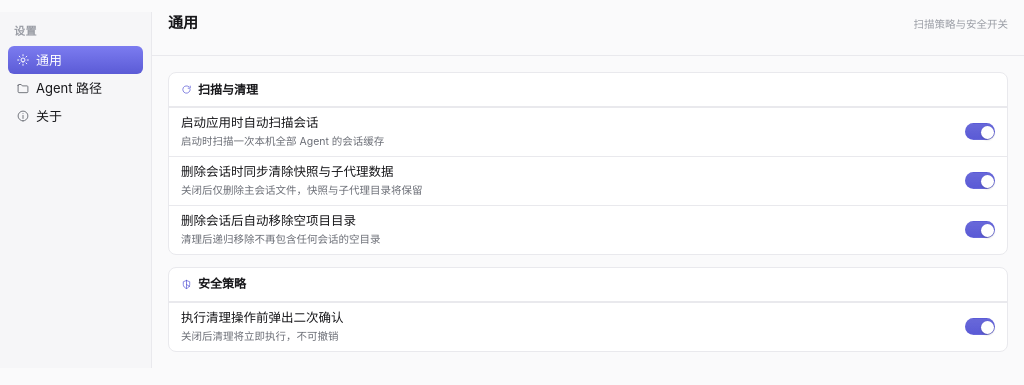
Test: SettingsView · Agent 路径页 › 每款 Agent 一行：名称 / 安装状态 / 会话数 / 体积 / 缩写后的存储路径
Click the button "Agent 路径".
click(76, 88)  # box x1=8 y1=74 x2=143 y2=102
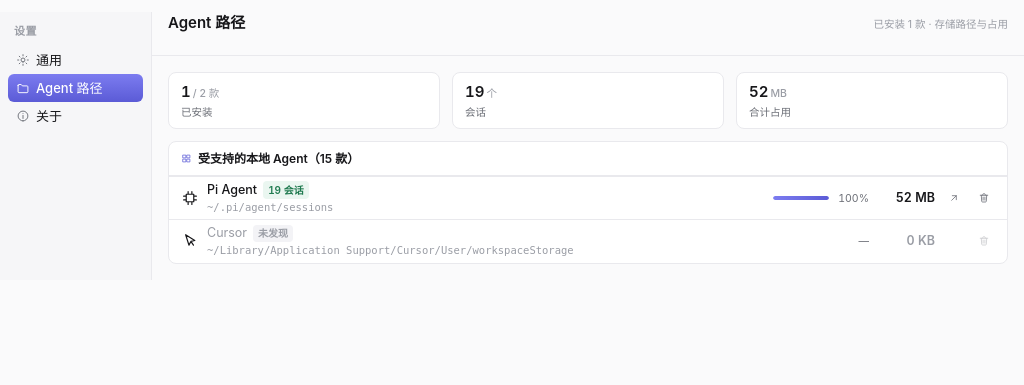
Now the text "已安装 1 款 · 存储路径与占用" is shown, box x1=873 y1=17 x2=1008 y2=32
Now the text "52" is shown, box x1=749 y1=81 x2=768 y2=103
Now the text "/ 2 款" is shown, box x1=193 y1=86 x2=219 y2=101
